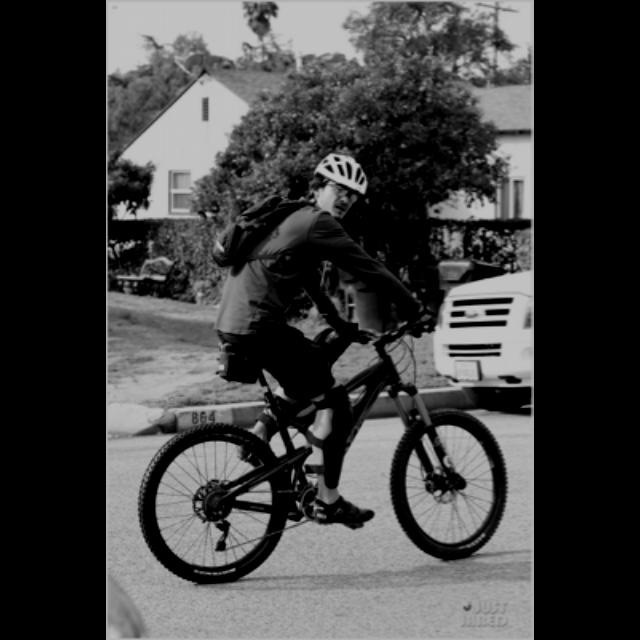With Helmet: (298, 136, 384, 237)
